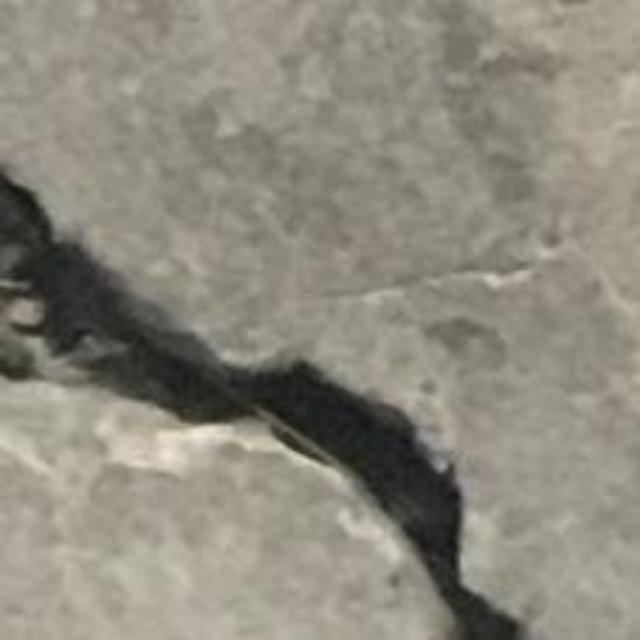crack: (0, 175, 524, 639)
